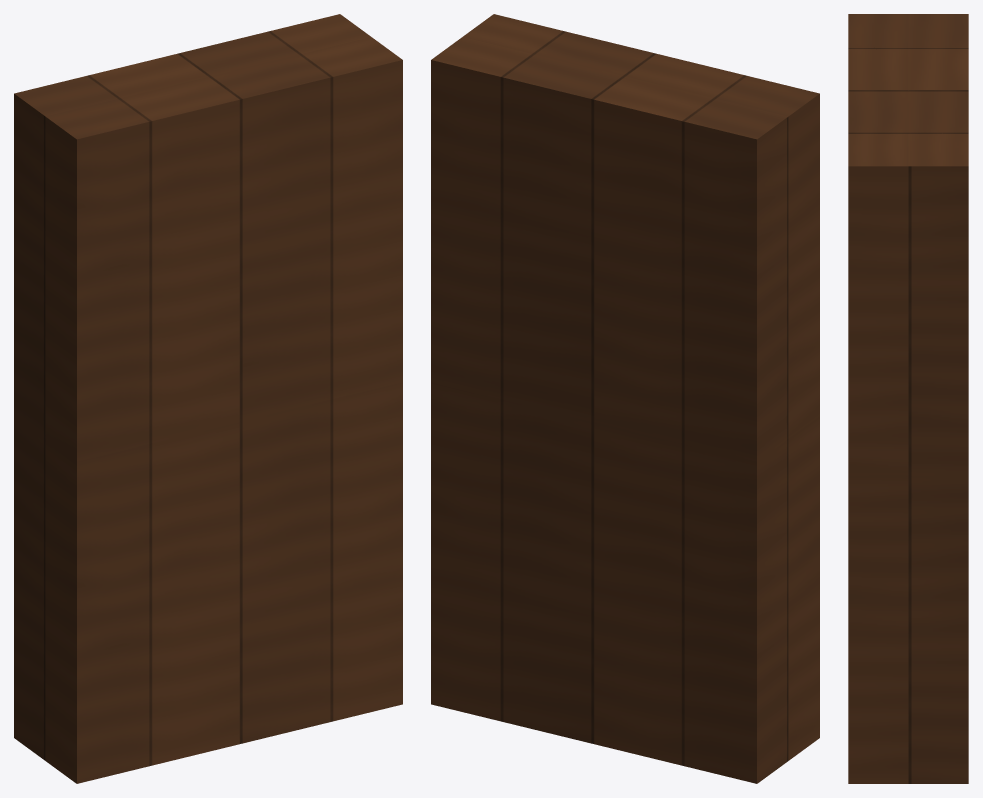
Rendered from polka_ksiazki.glb.
3 renders of one model, left to right at view 1: azimuth 30°, elevation 25°; view 2: azimuth 150°, elevation 25°; view 3: azimuth 270°, elevation 25°, orthographic. The views are drawn at different scales.
Parts seen in each view (by area): view 1: polka_ksiazki; view 2: polka_ksiazki; view 3: polka_ksiazki.
Part boxes in pixels (<box>): polka_ksiazki: <box>14,14,402,783</box>; polka_ksiazki: <box>431,14,819,783</box>; polka_ksiazki: <box>848,14,968,783</box>.
Size of the model in its own units: 0.9 by 1.7 by 0.3.
7 materials, 4 textured.
